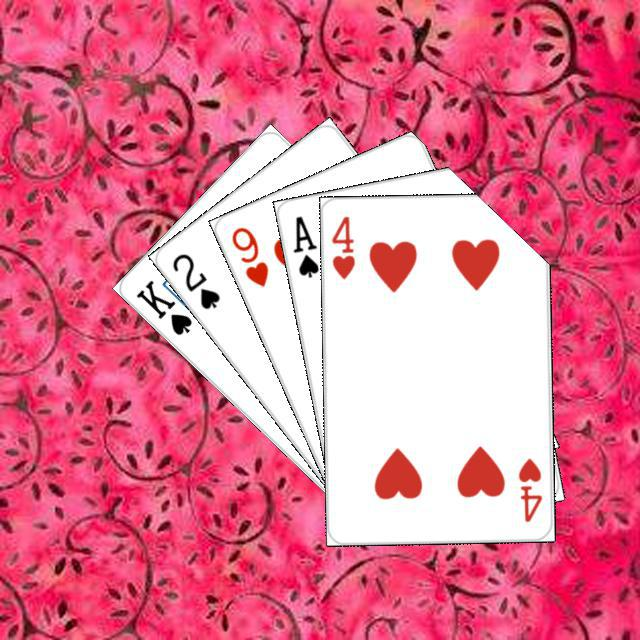2s: (167, 248, 222, 312)
4h: (326, 211, 357, 281), (513, 453, 544, 523)
9h: (226, 222, 270, 289)
As: (288, 211, 321, 280)
Ks: (131, 274, 194, 337)
